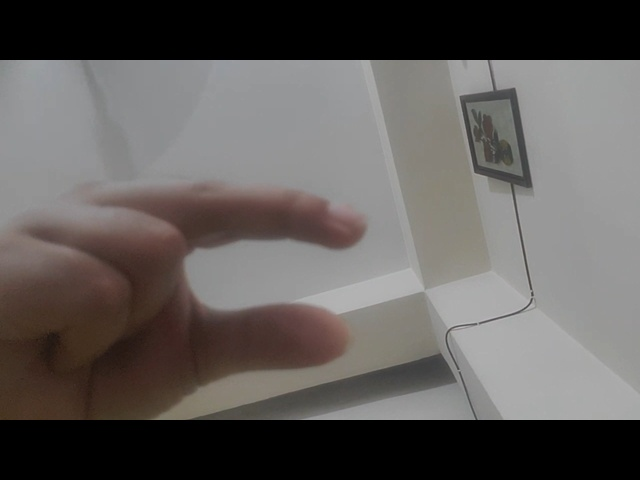No: (1, 166, 400, 415)
